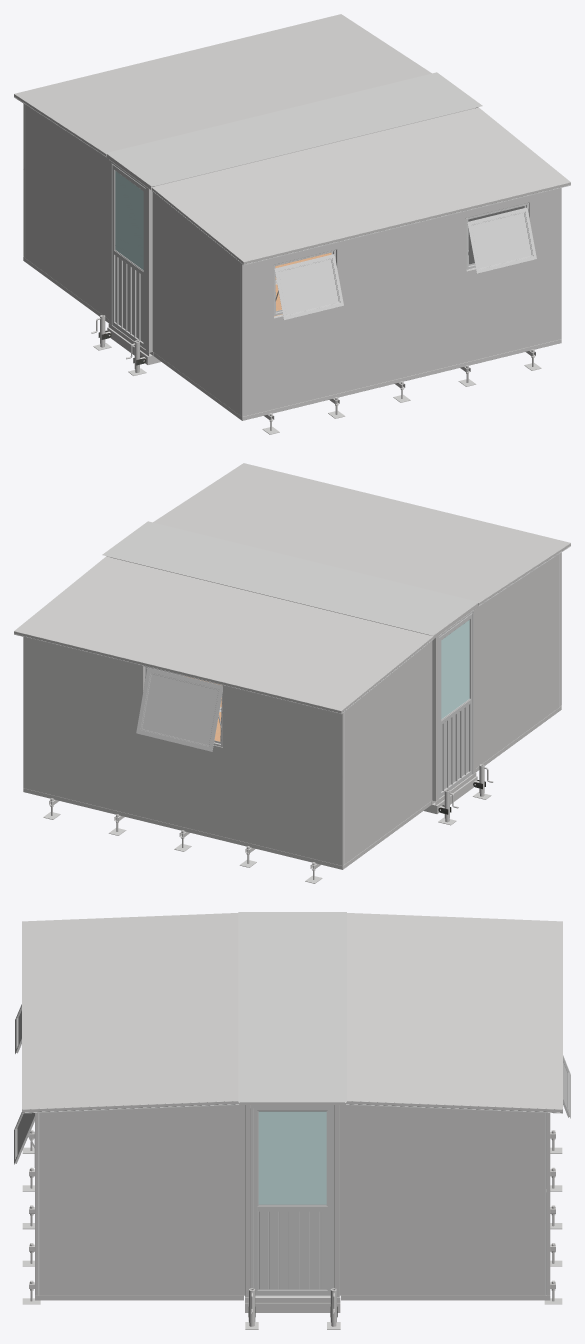
File: REFUGIO_COVID.glb
3 views of the same model, one above another, from view 1: azimuth 30°, elevation 25°; view 2: azimuth 150°, elevation 25°; view 3: azimuth 270°, elevation 25° (orthographic). The views are drawn at different scales.
Visible parts, largest first — view 1: REFUGIO COVID; view 2: REFUGIO COVID; view 3: REFUGIO COVID.
Boxes of the visible parts, x1=… form: REFUGIO COVID: x1=14, y1=14, x2=570, y2=434; REFUGIO COVID: x1=14, y1=463, x2=570, y2=883; REFUGIO COVID: x1=14, y1=912, x2=570, y2=1329.
Size of the model in its own units: 5.6 by 2.74 by 6.26.
Materials: 10 (2 with a texture image).
